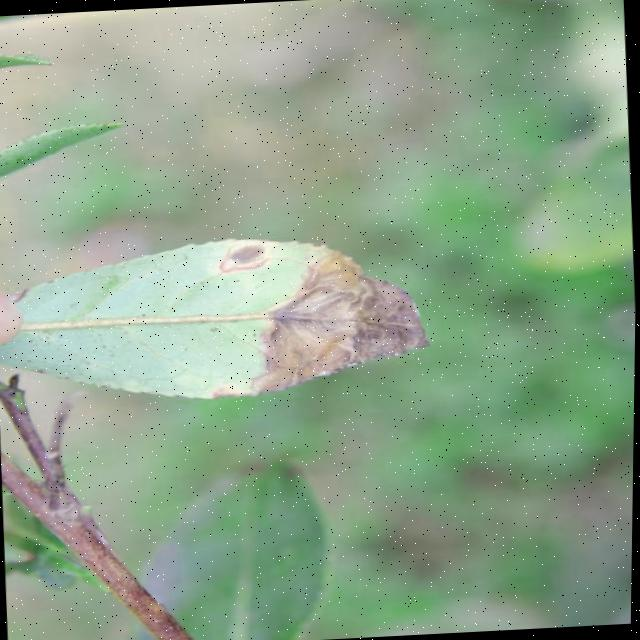Tea cloud leaf blight: (253, 248, 432, 411)
